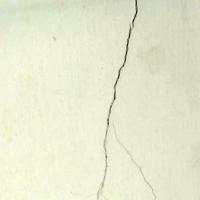crack: (79, 0, 154, 199)
